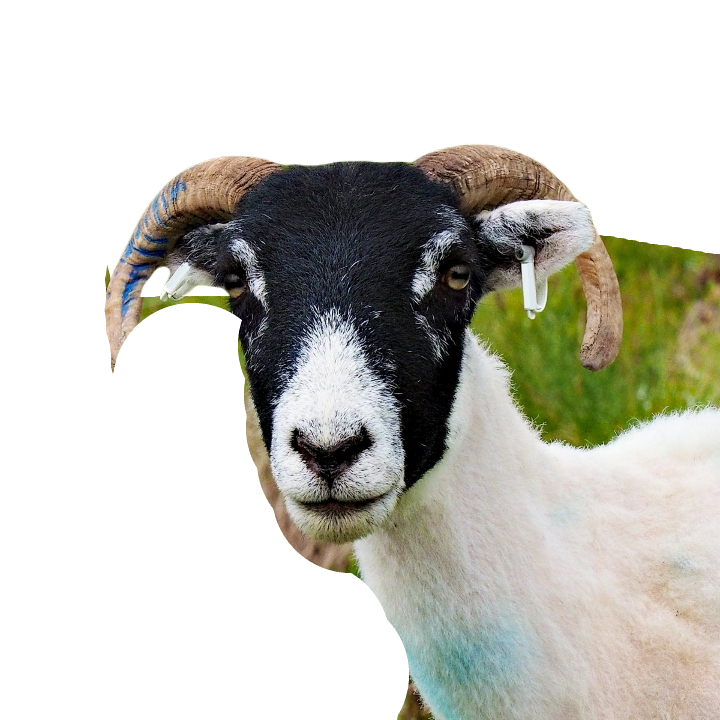Goat: (100, 143, 719, 719)
